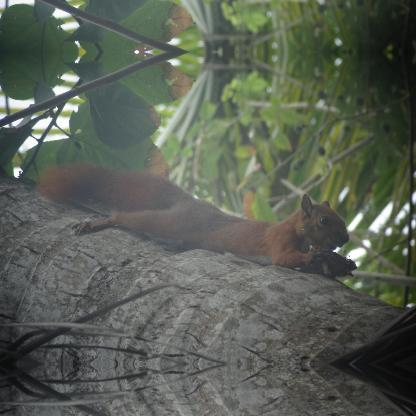Squirrel: (34, 158, 354, 266)
